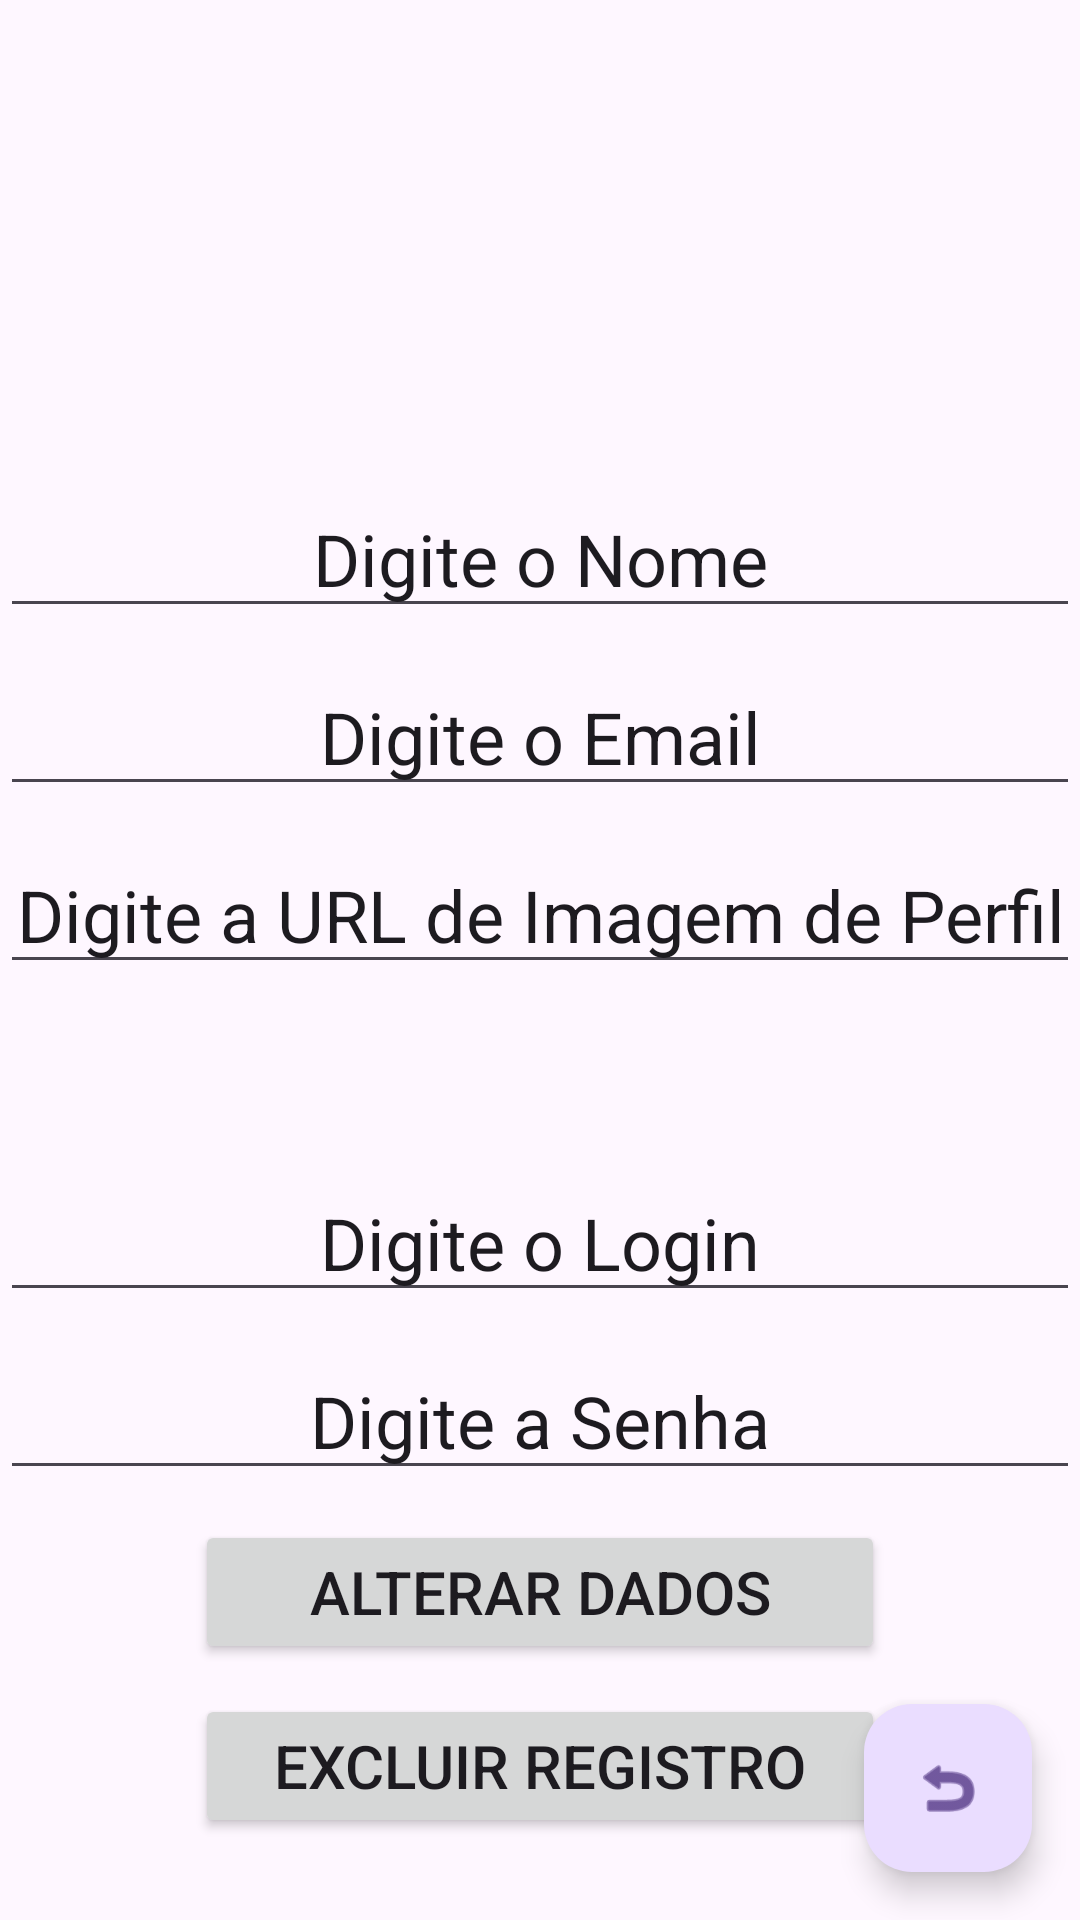

Locate icon controls on the screen. Image size 1080*1920, boxes as bbox=(x1, y1, x2, y2).
BACK Button: bbox=(864, 1704, 1032, 1872)
